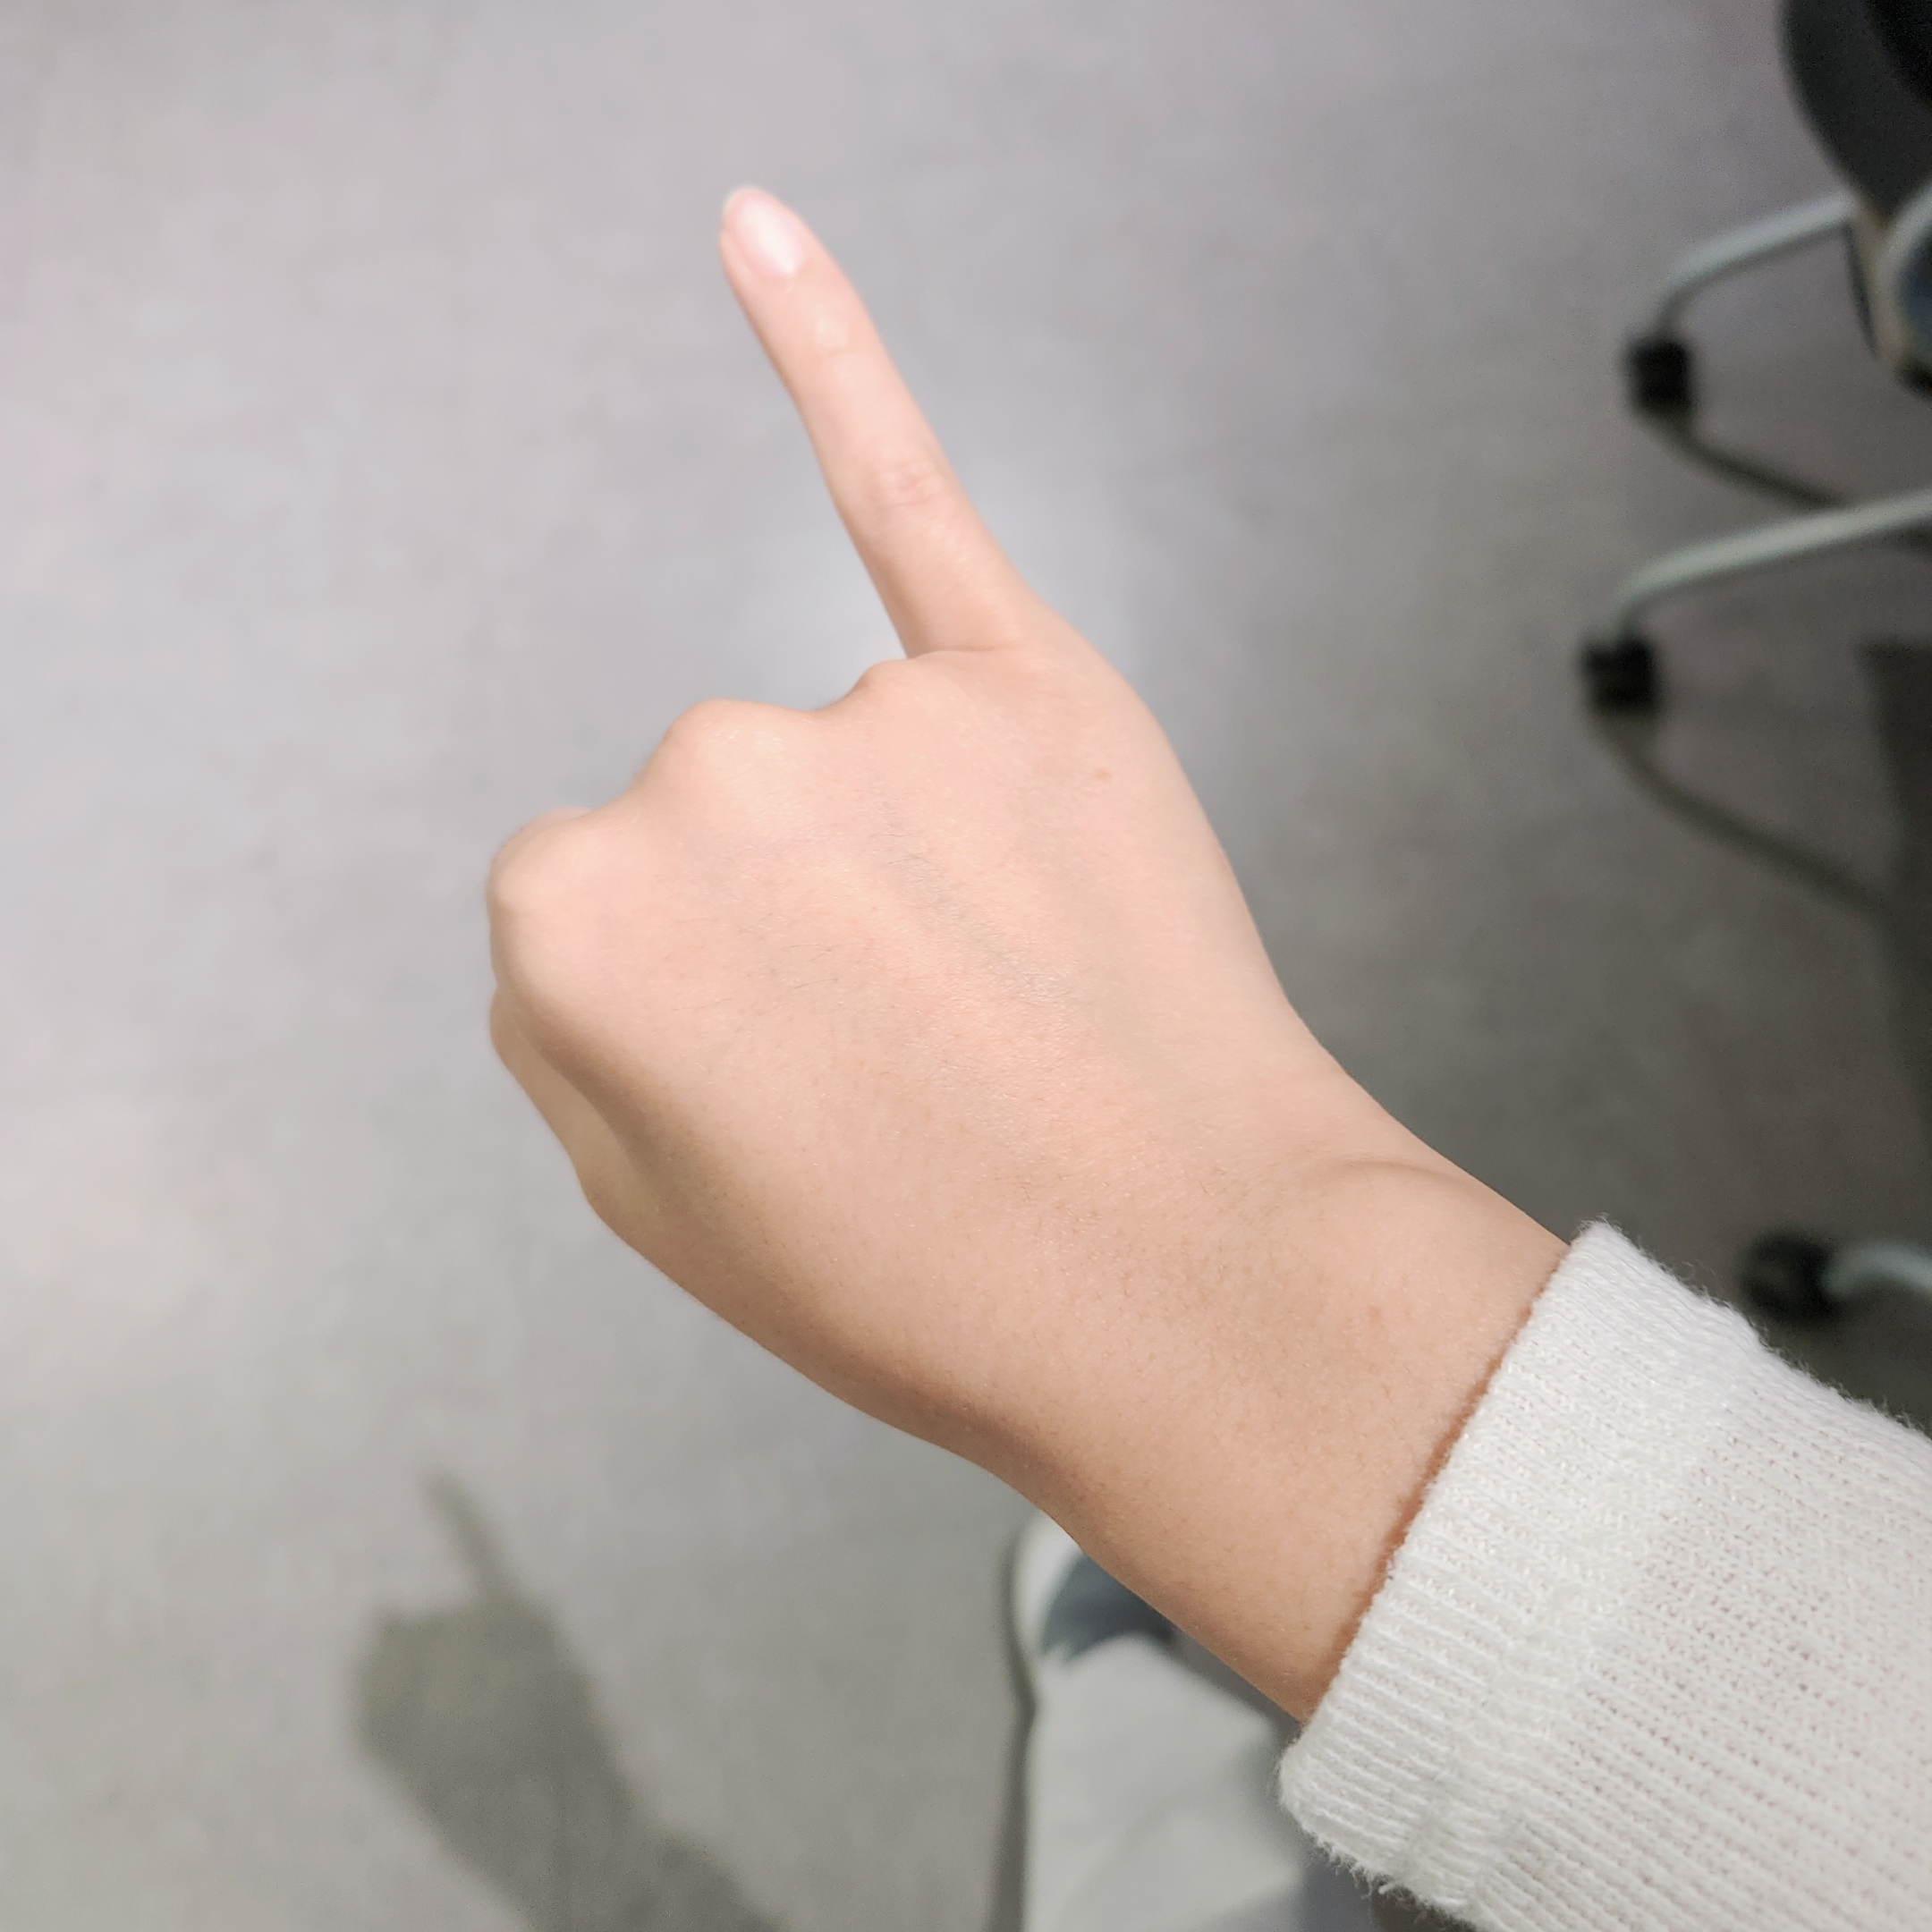fine: (483, 186, 1284, 1394)
